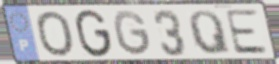3: (153, 7, 187, 58)
E: (223, 8, 270, 56)
G: (111, 9, 154, 58), (74, 8, 114, 59)
O: (34, 10, 77, 59)
Q: (187, 9, 233, 56)
